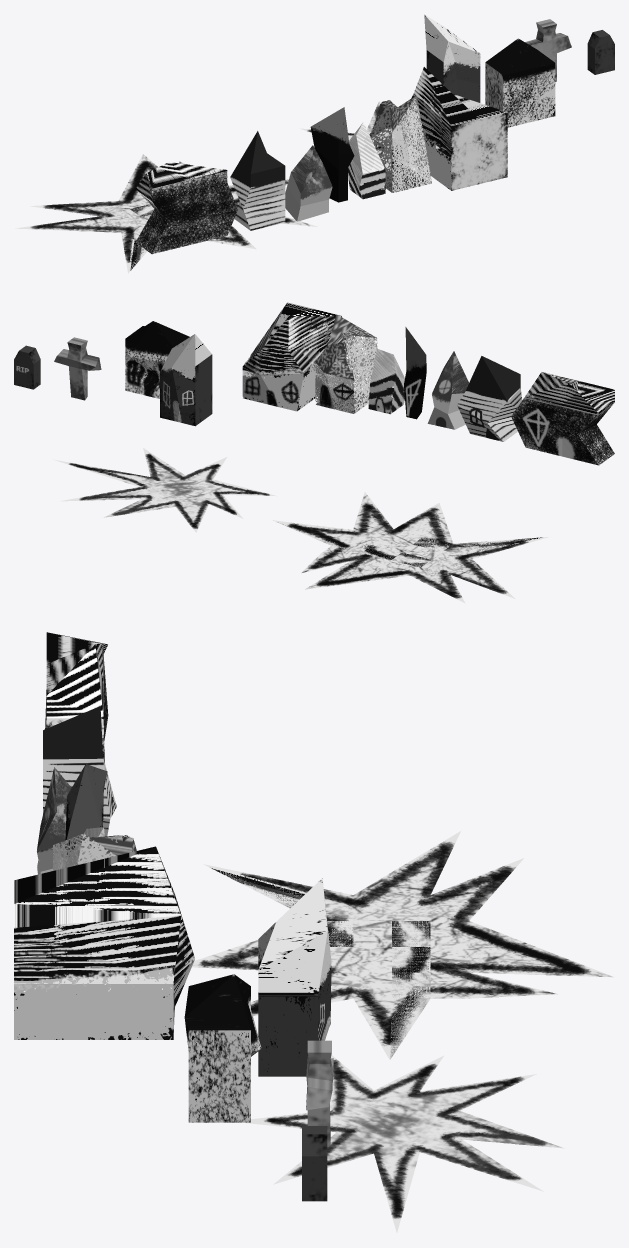
The model's file is Espace_1.fbx.
3 renders of one model, top to bottom at view 1: azimuth 30°, elevation 25°; view 2: azimuth 150°, elevation 25°; view 3: azimuth 270°, elevation 25°, orthographic. The views are drawn at different scales.
Visible parts, largest first — view 1: Cube.001, Cube.008, Cube.014, Cube.009, Cube.002, Cube.005, Cube.006, Cube.004, Cube.007, Cube.003, Cube.010, Cube.011; view 2: Cube.014, Cube.001, Cube.008, Plane, Cube.002, Cube.006, Cube.005, Cube.009, Cube.004, Cube.003, Cube.007, Cube.011 (+1 smaller); view 3: Cube.001, Cube.014, Plane, Cube.006, Cube.009, Cube.008, Cube.005, Cube.007, Cube.011, Cube.004, Cube.002, Cube.010.
Boxes of the visible parts, x1,y1,x2,y2 form: Cube.001: [402, 67, 507, 190]; Cube.008: [135, 162, 237, 254]; Cube.014: [15, 154, 317, 273]; Cube.009: [485, 38, 555, 127]; Cube.002: [369, 95, 431, 192]; Cube.005: [230, 131, 285, 230]; Cube.006: [424, 14, 480, 102]; Cube.004: [285, 145, 332, 221]; Cube.007: [310, 107, 354, 202]; Cube.003: [348, 122, 385, 199]; Cube.010: [587, 30, 614, 74]; Cube.011: [525, 19, 571, 81]; Cube.014: [273, 492, 548, 603]; Cube.001: [242, 302, 341, 411]; Cube.008: [511, 372, 614, 465]; Plane: [53, 448, 277, 532]; Cube.002: [315, 315, 377, 413]; Cube.006: [160, 334, 212, 426]; Cube.005: [457, 356, 522, 441]; Cube.009: [125, 321, 189, 398]; Cube.004: [427, 351, 468, 429]; Cube.003: [368, 348, 404, 414]; Cube.007: [404, 327, 426, 419]; Cube.011: [54, 337, 101, 400]; Cube.001: [14, 846, 194, 1039]; Cube.014: [192, 831, 614, 1059]; Plane: [243, 1055, 564, 1232]; Cube.006: [258, 878, 331, 1076]; Cube.009: [184, 974, 261, 1122]; Cube.008: [45, 632, 108, 762]; Cube.005: [43, 706, 116, 836]; Cube.007: [65, 764, 107, 856]; Cube.011: [306, 1040, 333, 1146]; Cube.004: [37, 767, 108, 874]; Cube.002: [53, 834, 136, 870]; Cube.010: [302, 1126, 327, 1201].
Bounding box in the file's own units: 4906 × 1295 × 2657.
